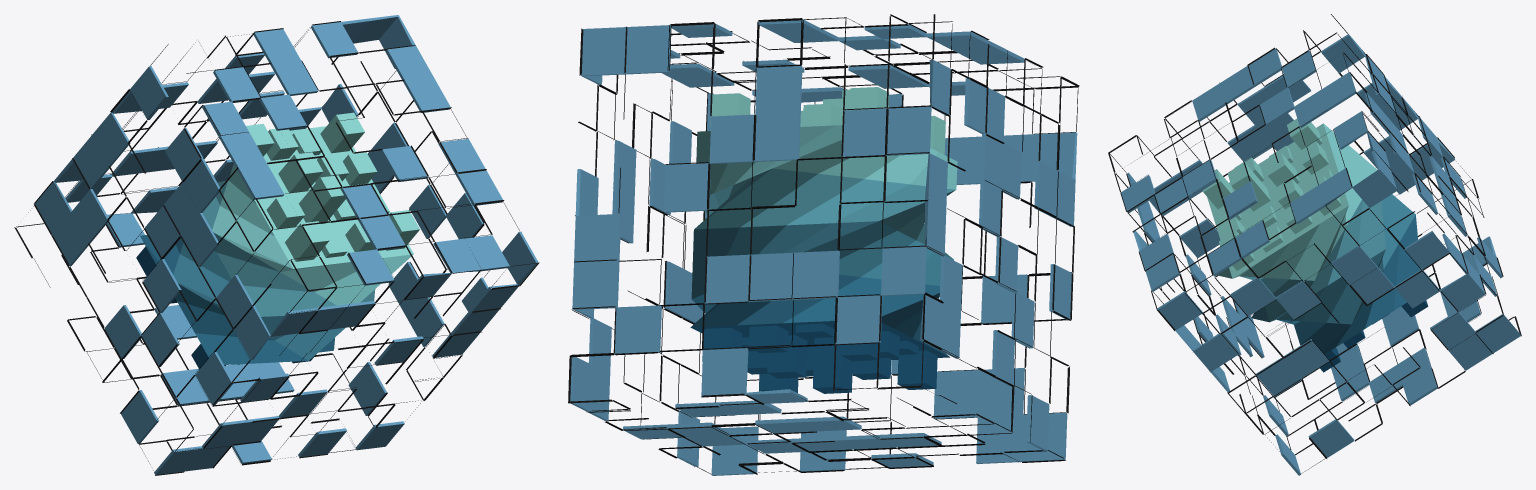
File: Planet21.glb
The picture shows the model from 3 angles, left to right: view 1: azimuth 30°, elevation 25°; view 2: azimuth 150°, elevation 25°; view 3: azimuth 270°, elevation 25°; orthographic projection. The views are drawn at different scales.
Parts seen in each view (by area): view 1: Planet_21; view 2: Planet_21; view 3: Planet_21.
Boxes of the visible parts, <box> form: Planet_21: <box>14,15,539,475</box>; Planet_21: <box>568,14,1079,475</box>; Planet_21: <box>1108,14,1521,475</box>.
Bounding box in the file's own units: 3.68 × 4.5 × 4.46.
